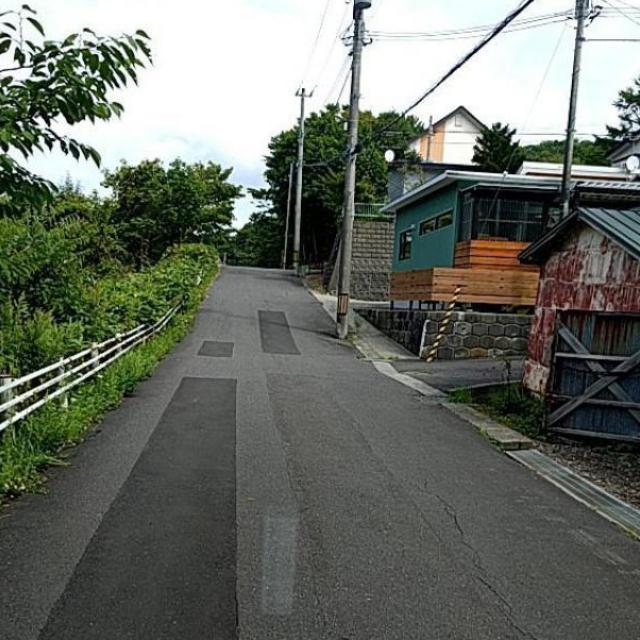Sambungan: (33, 376, 235, 640), (261, 309, 298, 353), (203, 340, 235, 358)
